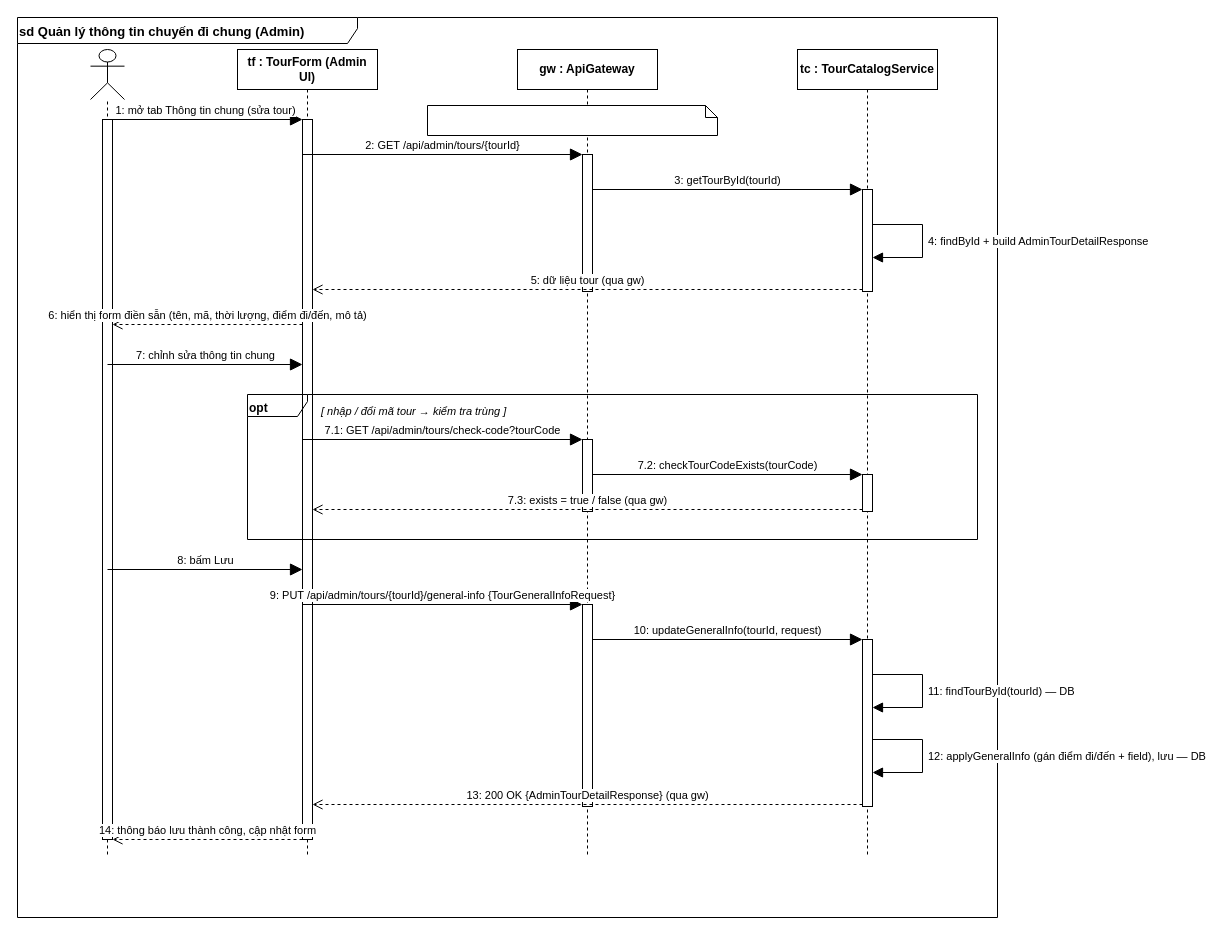
Image size: 1224x935. Some labels were removed from this diagram. The centre of each missing label's shape, as x and y in pixels:
Admin: (107,74)
findTourById ném 404 nếu tour không tồn tại: (572,120)
